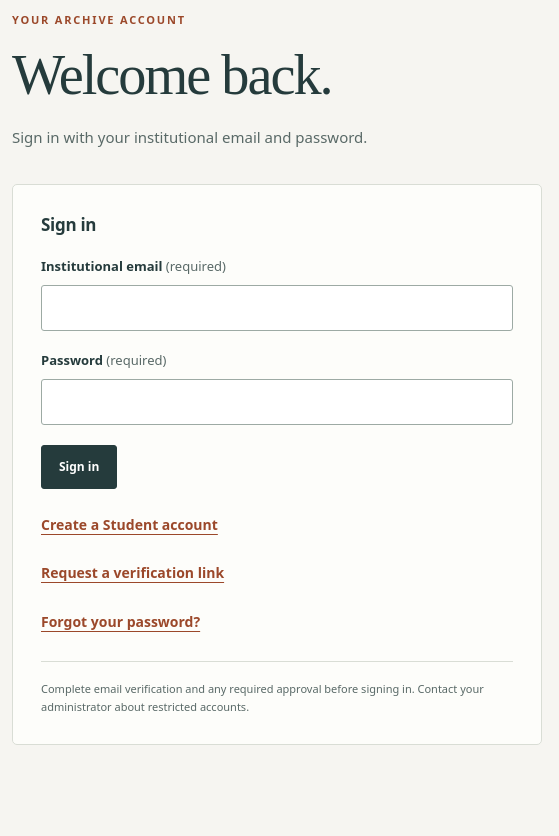
account flow › clears passwords and focuses generic login failures
The width and height of the screenshot is (559, 836).
In the field labelled "Institutional email (required)": coordinates (277, 308) [41, 285, 513, 331], type "member@iut.example"
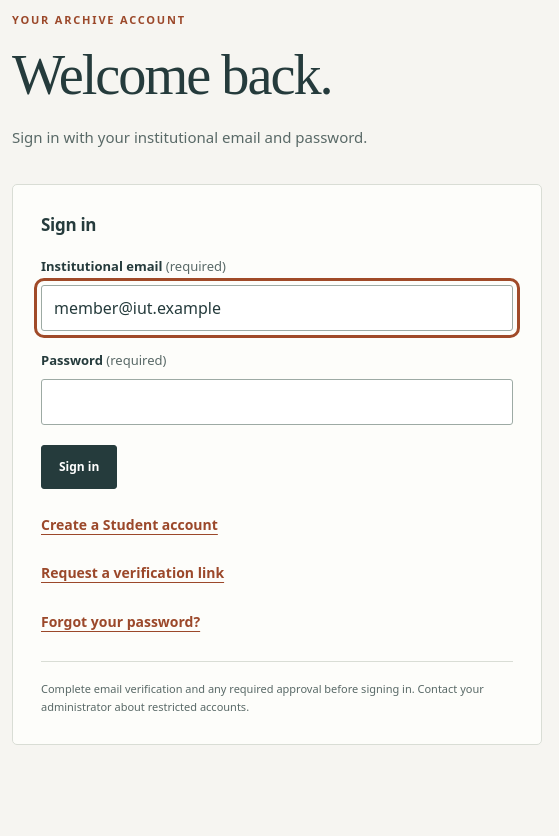
In the password field labelled "Password (required)": coordinates (277, 402) [41, 379, 513, 425], type "synthetic-wrong"
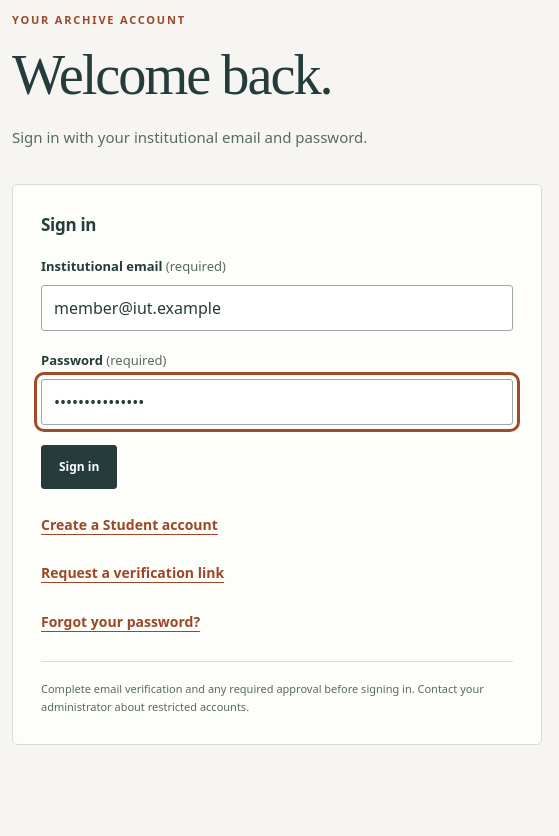
Click the button "Sign in": coordinates (79, 467) [41, 445, 117, 489]
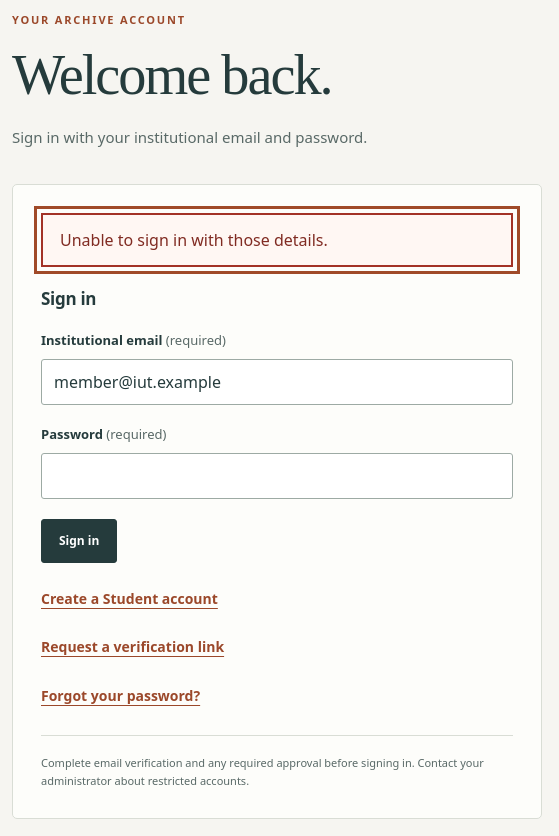
Expected: the message reads "Unable to sign in with those details.", [60, 229, 328, 251]
Expected: the password field labelled "Password (required)" is empty, [41, 453, 513, 499]
